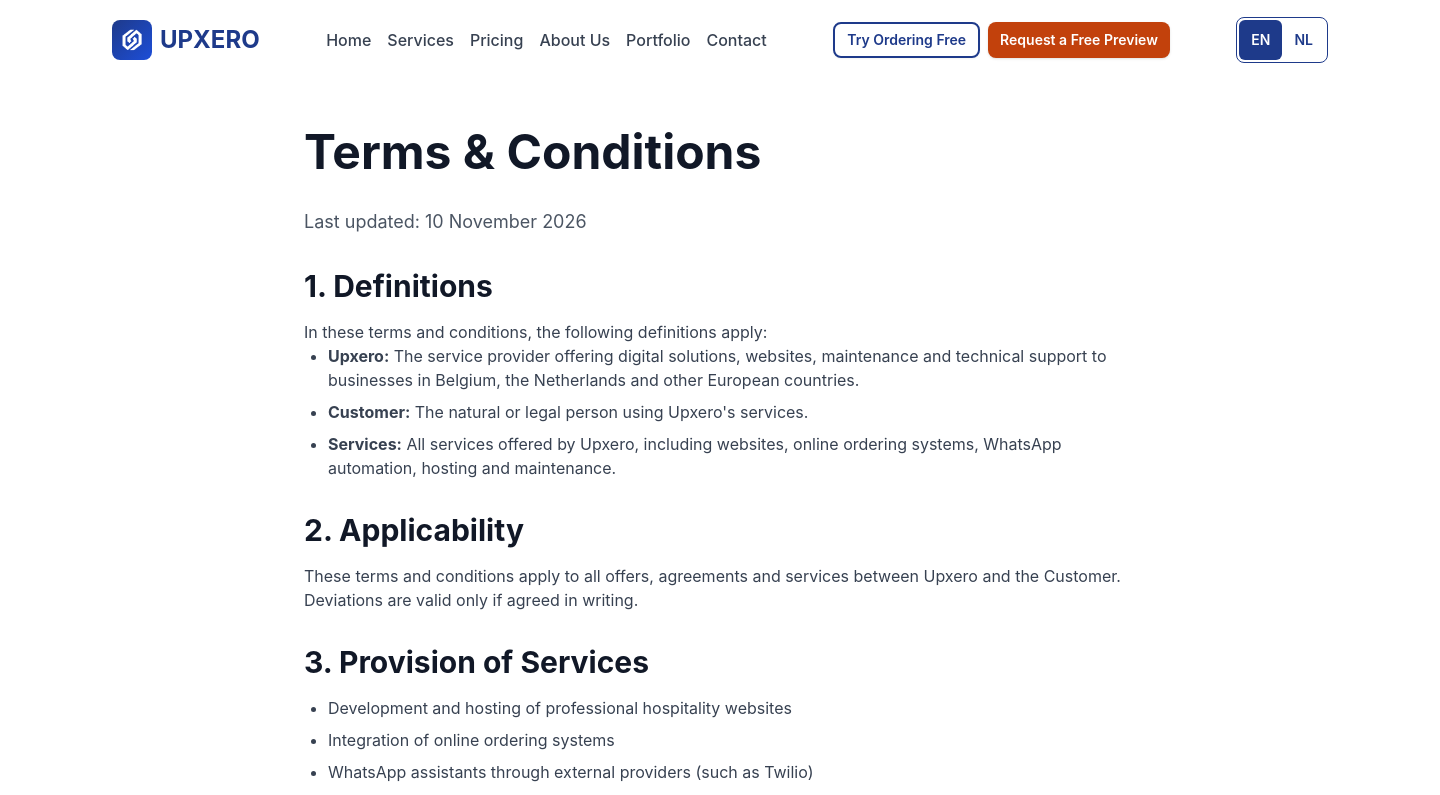
Test: terms renders and switches both language URLs without missing keys
Click the button "NL" at x=1304, y=40, box [1282,20,1325,60]
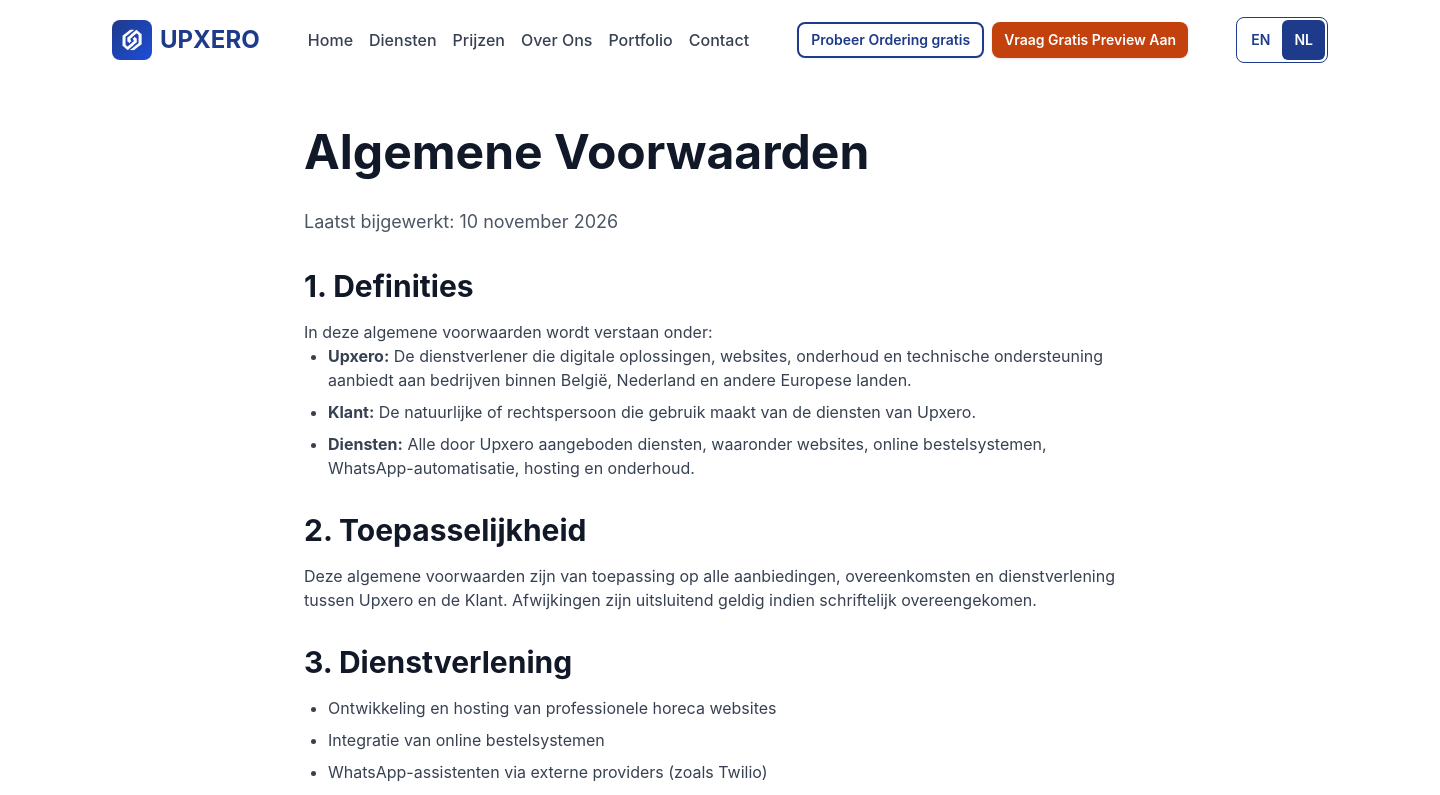
Expected: the heading "Algemene Voorwaarden" is shown, [304,122,869,181]
Click the button "EN" at x=1261, y=40, box [1239,20,1282,60]
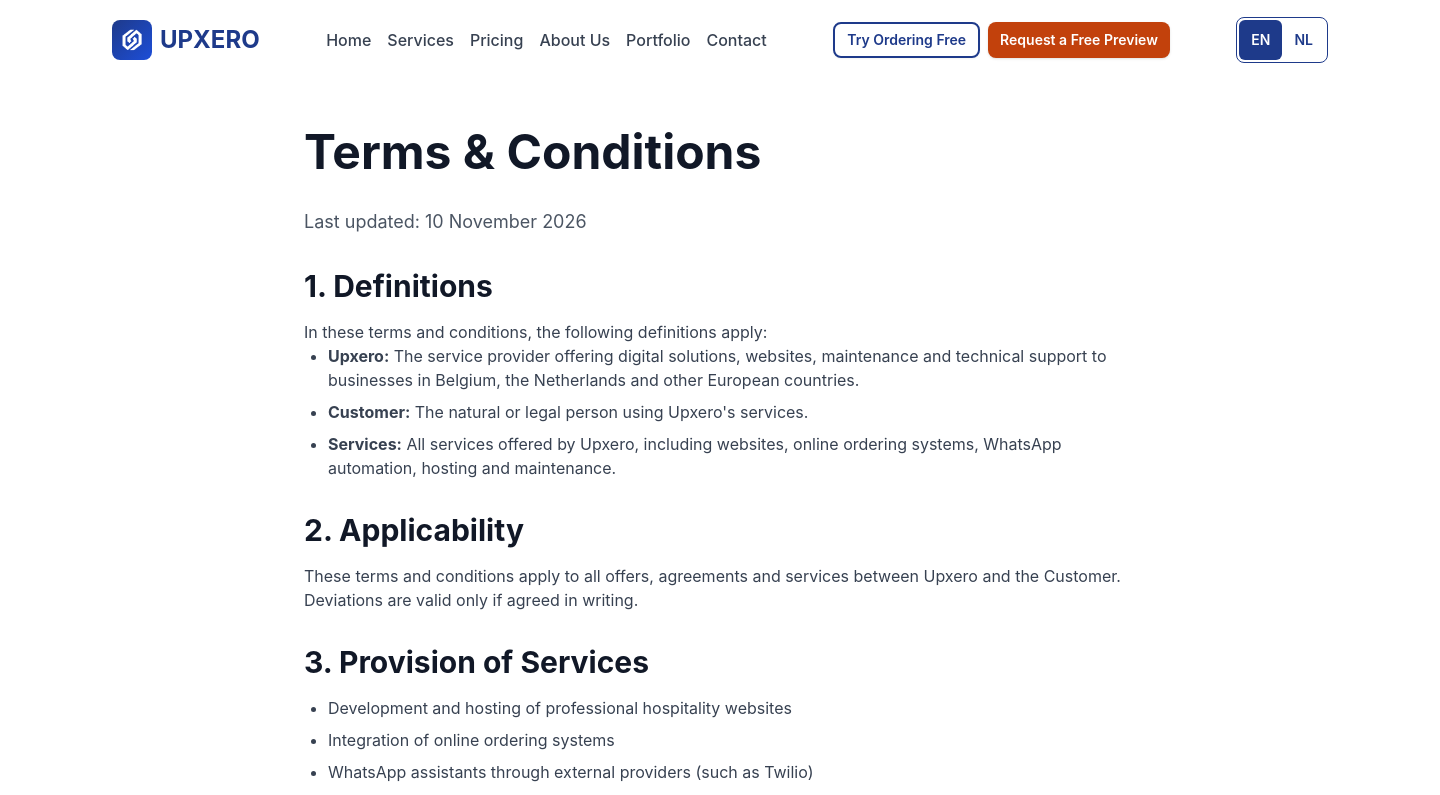
Expected: the heading "Terms & Conditions" is shown, [304,122,761,181]
